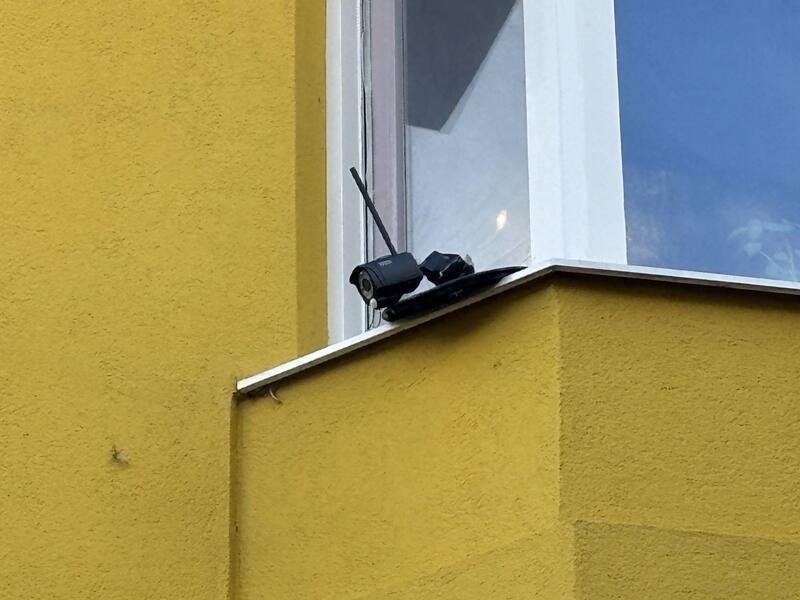bullet: (342, 241, 428, 310)
